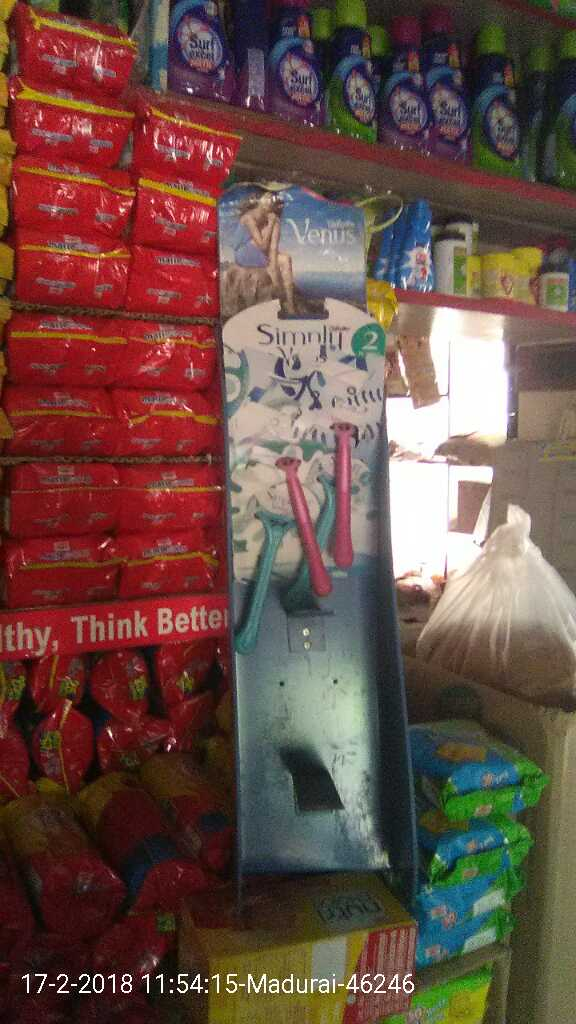reject: (223, 331, 461, 518)
